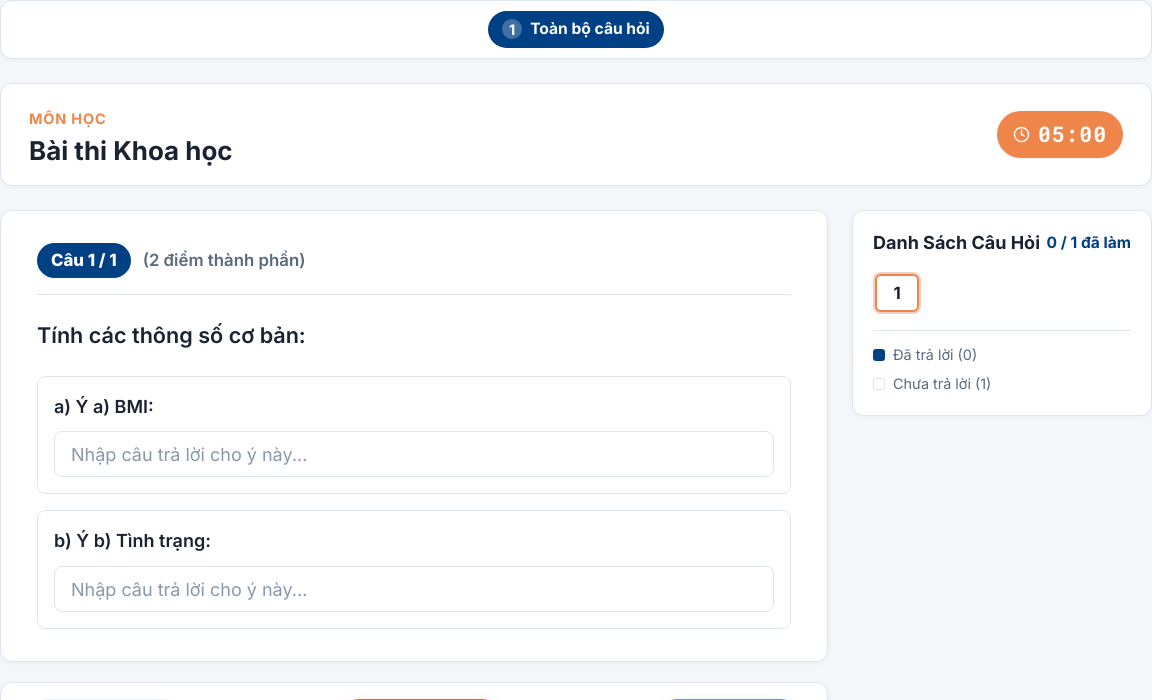
ExamTakingPage - MULTI_PART_SHORT_ANSWER support › không cho nộp thủ công khi thiếu một ý và hiển thị thông báo lỗi
Expected: the text "Tính các thông số cơ bản:" is shown, [37, 322, 306, 348]
# Only fill part 1, leave part 2 blank
Step 1. Type "22.5" into the field with placeholder "Nhập câu trả lời cho ý này..." below "a) Ý a) BMI:" → {"x": 414, "y": 454}, box [54, 431, 774, 477]
(page scrolled)
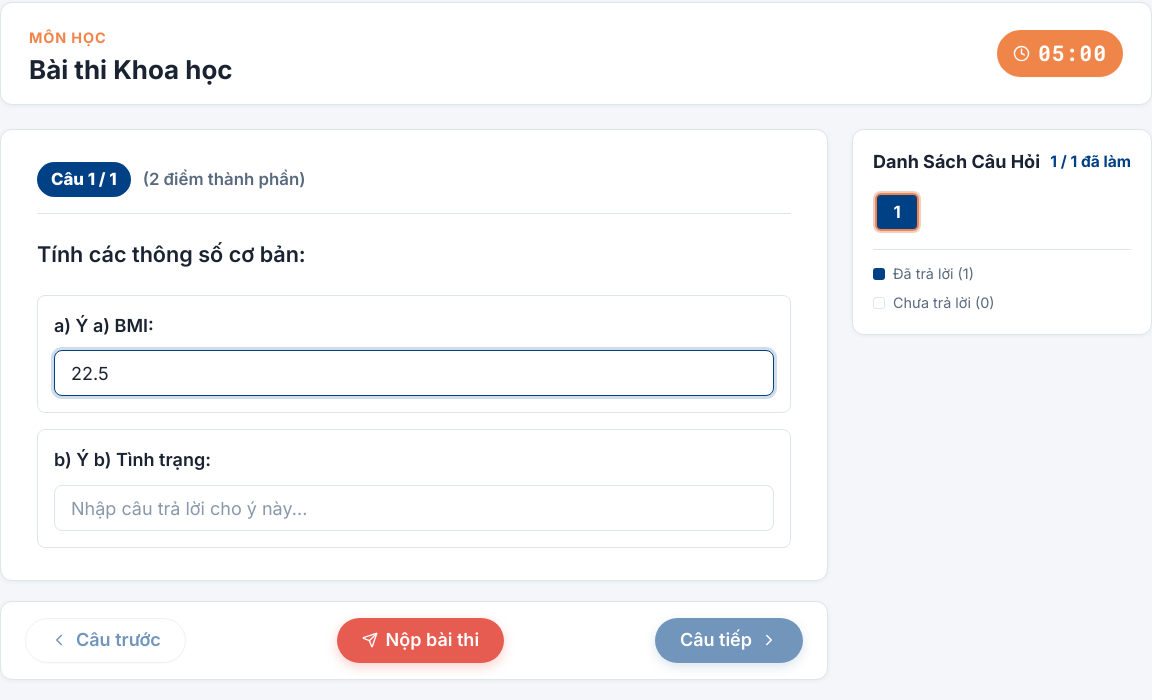
Step 2. Click the button "Nộp bài thi" → {"x": 420, "y": 640}, box [337, 618, 504, 663]
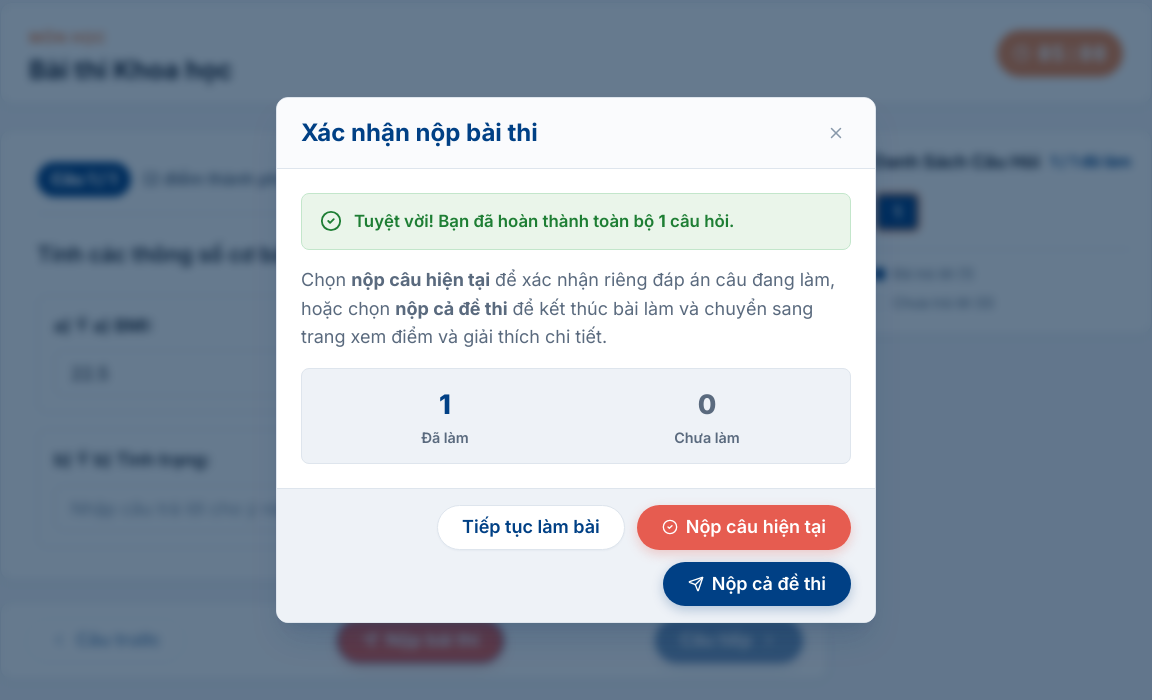
Step 3. Click the button "Nộp câu hiện tại" → {"x": 744, "y": 527}, box [637, 505, 851, 550]
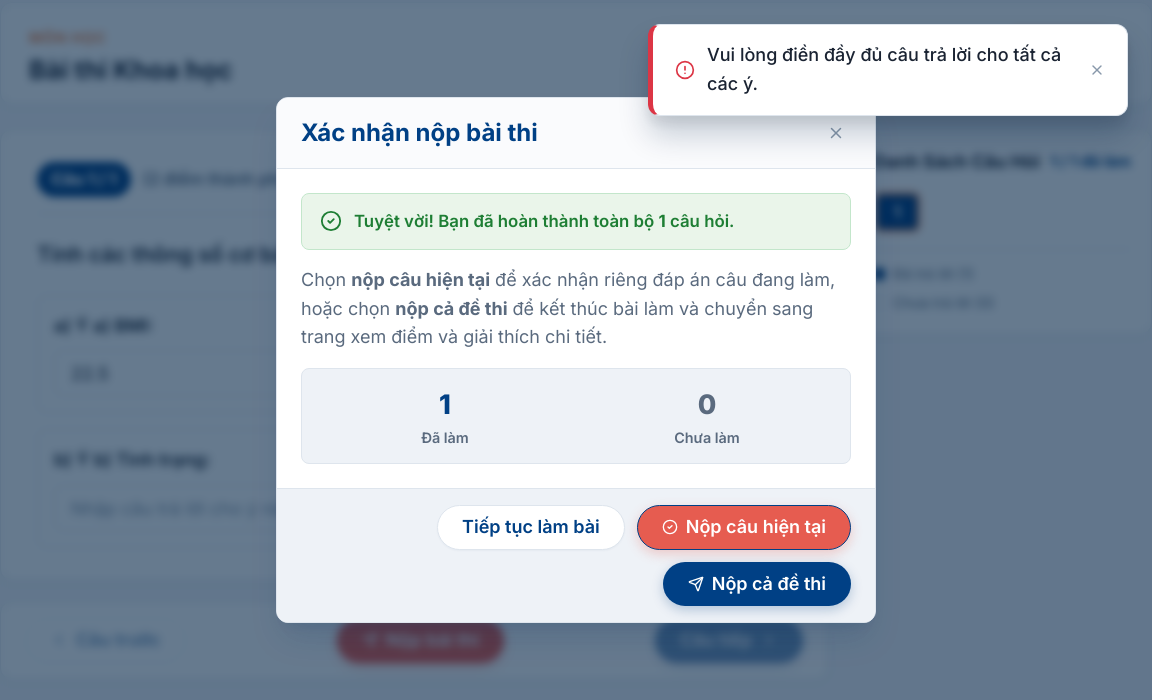
Now the text "Vui lòng điền đầy đủ câu trả lời cho tất cả các ý." is shown, box [707, 41, 1077, 99]
